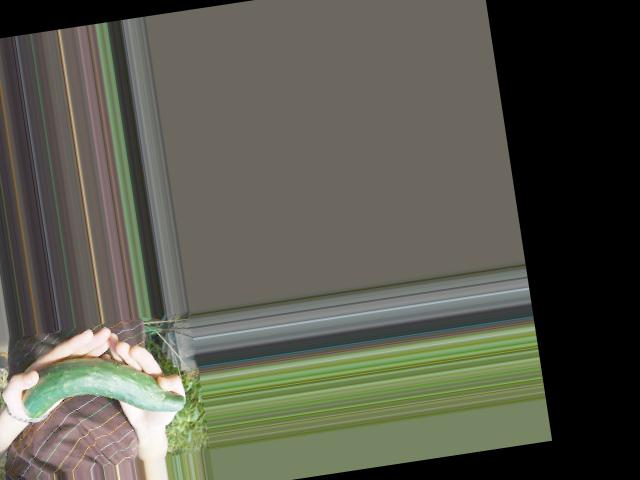cucumber: (16, 343, 185, 433)
